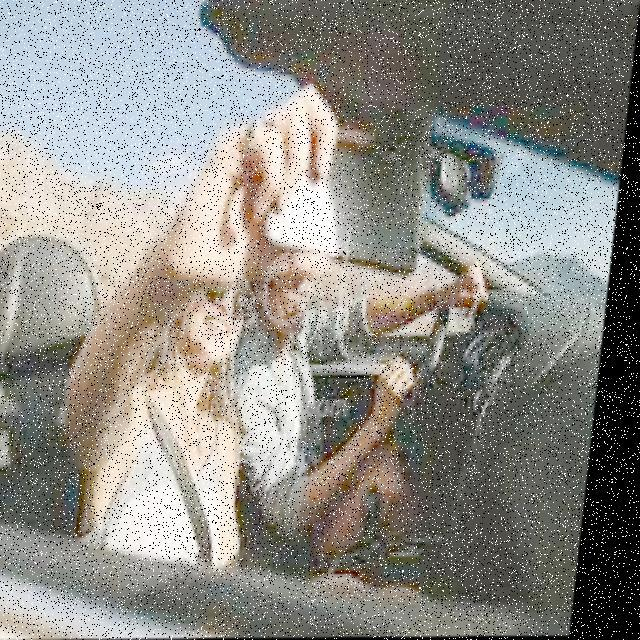seatbelt: (120, 386, 248, 574)
